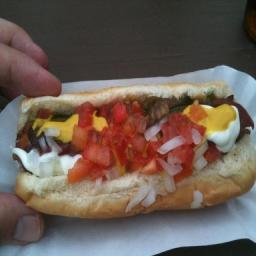hotdog: (11, 121, 45, 165)
